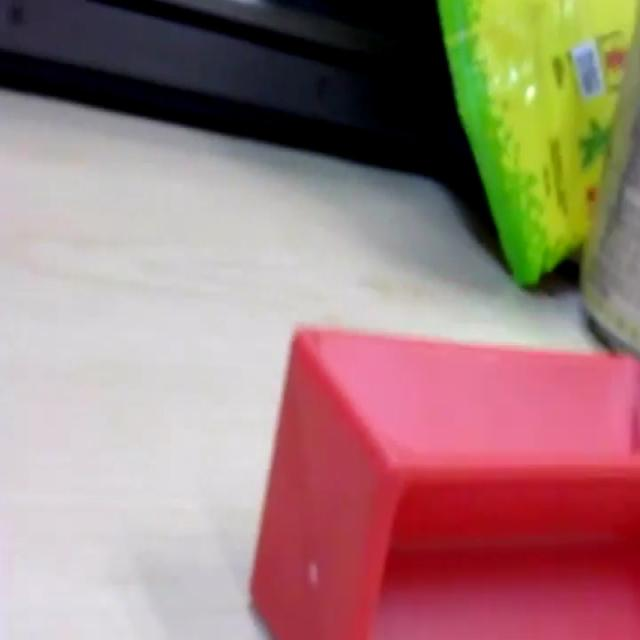red_block: (247, 320, 638, 636)
